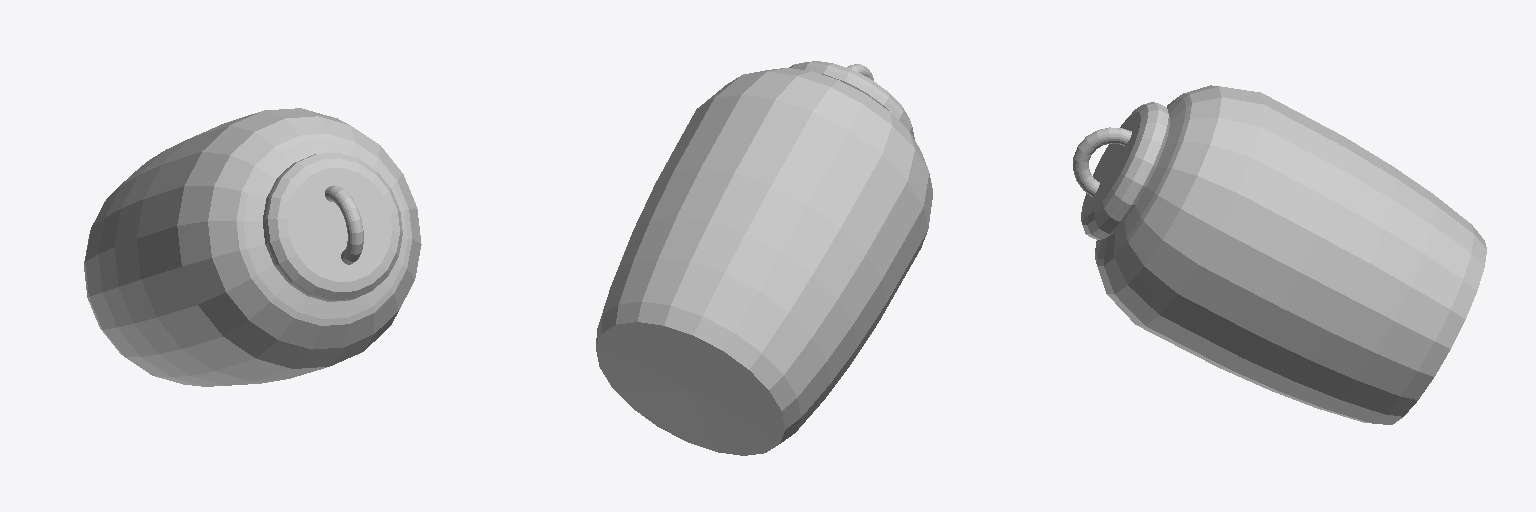
The model's file is Urn_shooting_4.obj.
3 renders of one model, left to right at view 1: azimuth 30°, elevation 25°; view 2: azimuth 150°, elevation 25°; view 3: azimuth 270°, elevation 25°, orthographic.
Visible parts, largest first — view 1: Undertaker_4:Undertaker_4:Urn; view 2: Undertaker_4:Undertaker_4:Urn; view 3: Undertaker_4:Undertaker_4:Urn.
Boxes of the visible parts, x1,y1,x2,y2 form: Undertaker_4:Undertaker_4:Urn: [84, 108, 421, 386]; Undertaker_4:Undertaker_4:Urn: [596, 61, 932, 455]; Undertaker_4:Undertaker_4:Urn: [1073, 85, 1486, 424].
Bounding box in the file's own units: 0.4718 × 0.6233 × 0.7371.